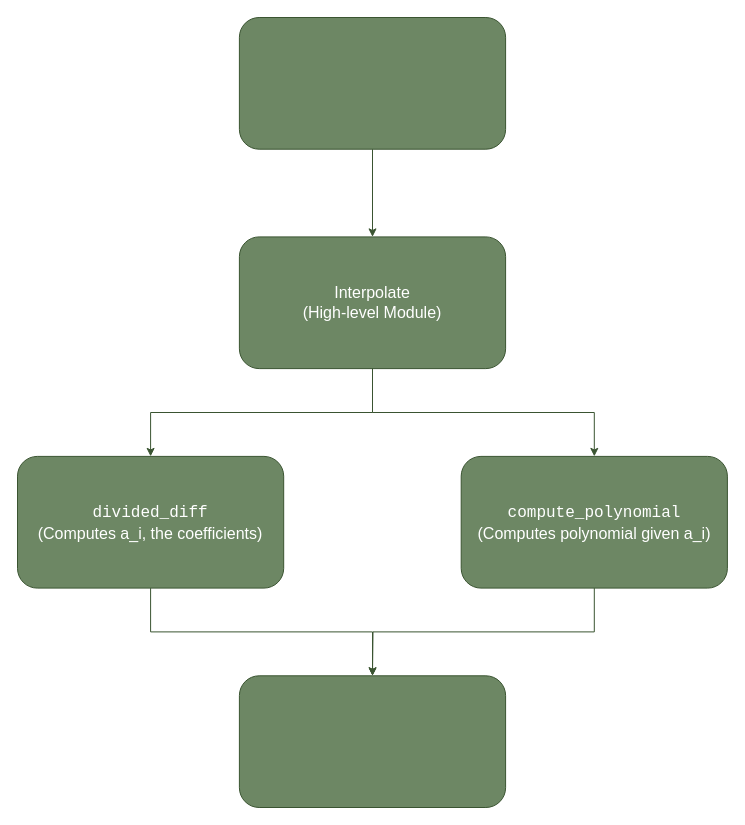
Image size: 745x825. Some labels were removed from this diagram. The shapes that lost their labels are listed below. From the top down, each one's centre as x and y in pixels, then its label:
(x=372, y=82): Input f(x) or nodes
(x=372, y=741): Output P(x)
